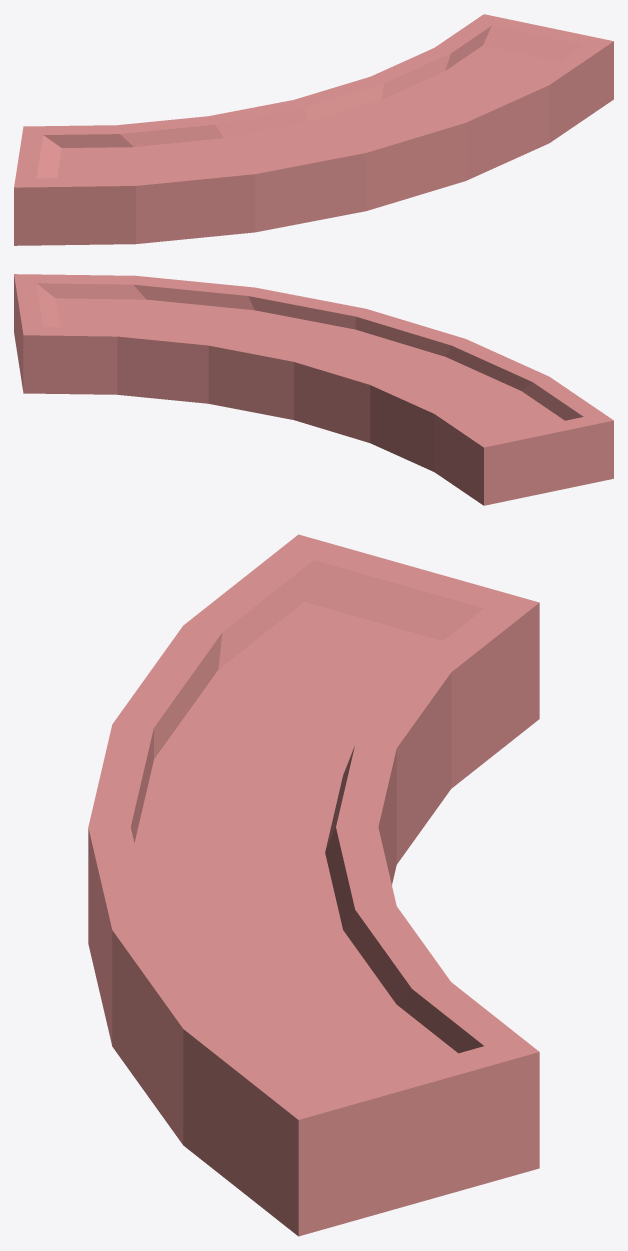
File: Key no 8.glb
3 views of the same model, one above another, from view 1: azimuth 30°, elevation 25°; view 2: azimuth 150°, elevation 25°; view 3: azimuth 270°, elevation 25° (orthographic). The views are drawn at different scales.
Parts seen in each view (by area): view 1: Key no 8; view 2: Key no 8; view 3: Key no 8.
Boxes of the visible parts, x1,y1,x2,y2 form: Key no 8: (14, 14, 613, 245); Key no 8: (14, 274, 613, 505); Key no 8: (88, 534, 539, 1236).
Bounding box in the file's own units: 0.5822 × 0.054 × 0.1896.
